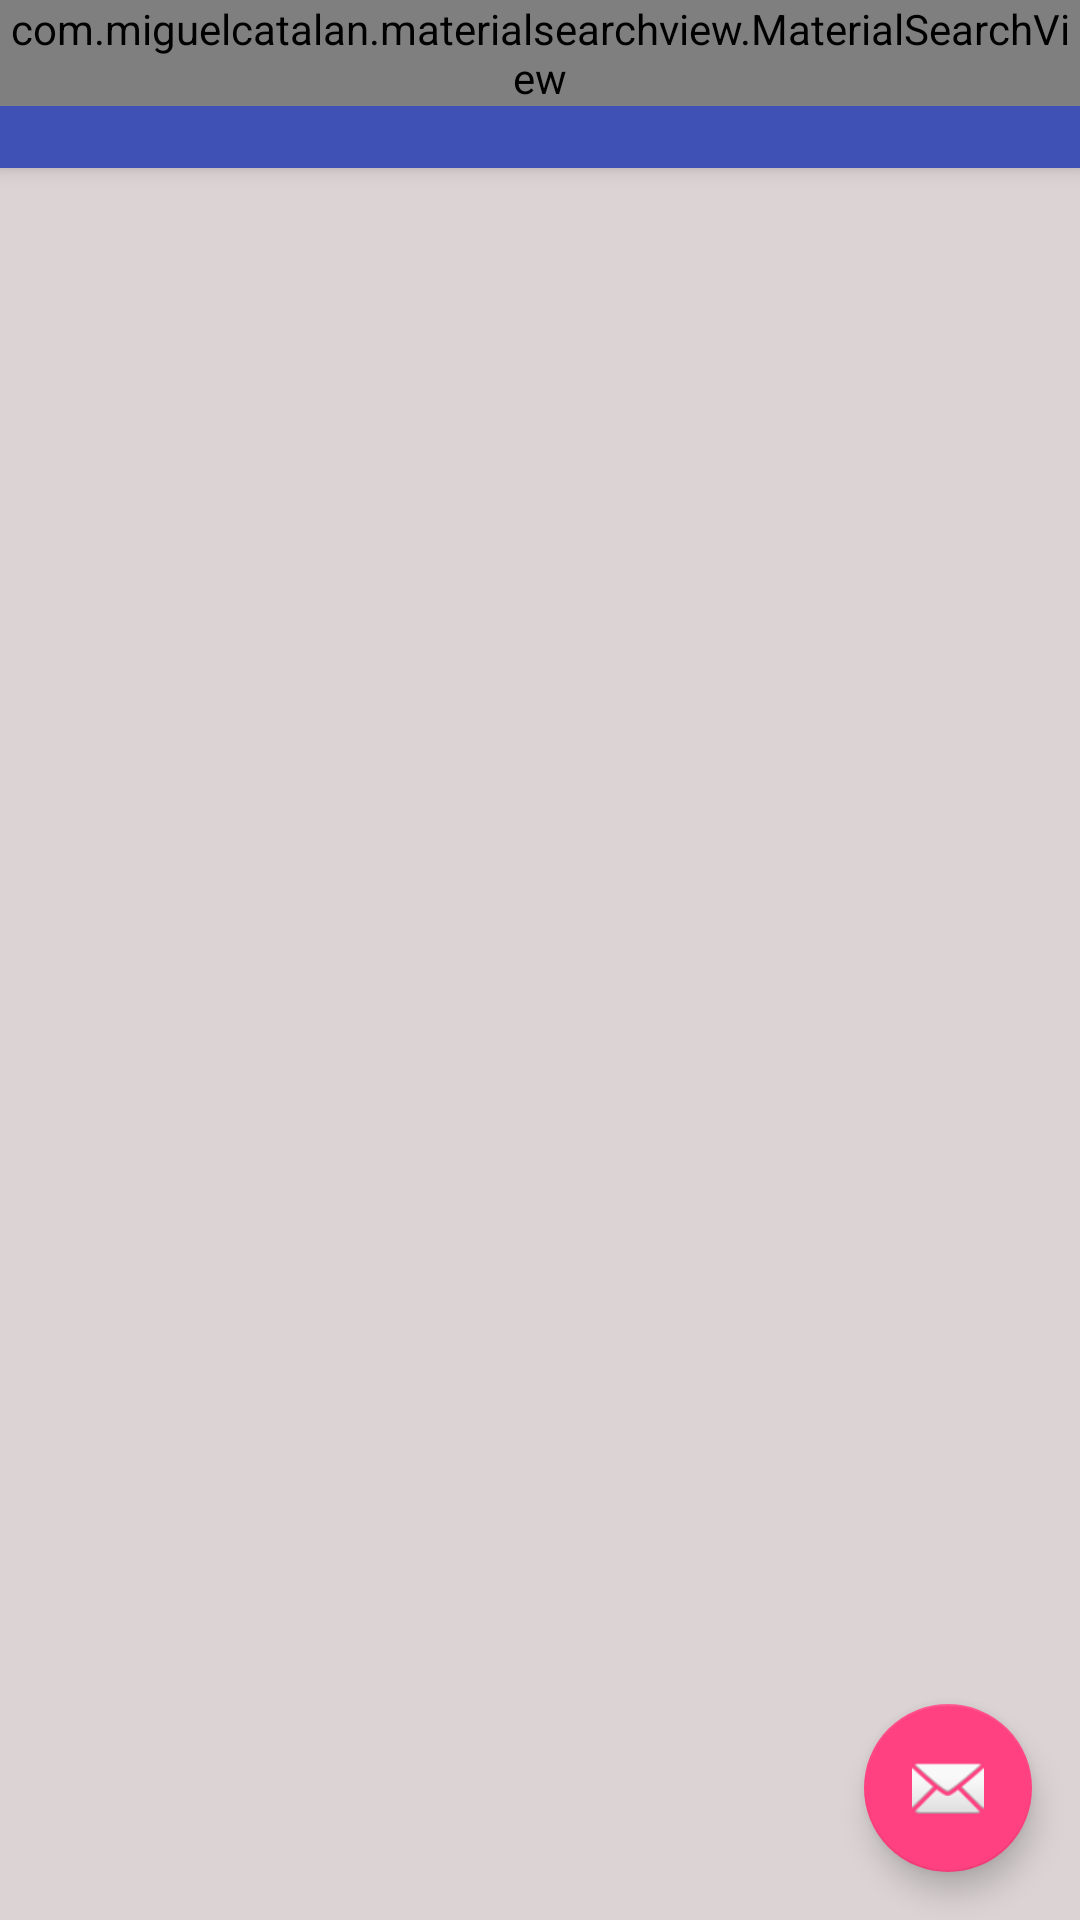

Named icons in this screenshot (1080 x 1920) and their bounding boxes, BBox(x1, y1, x2, y2):
email: BBox(864, 1704, 1032, 1872)
